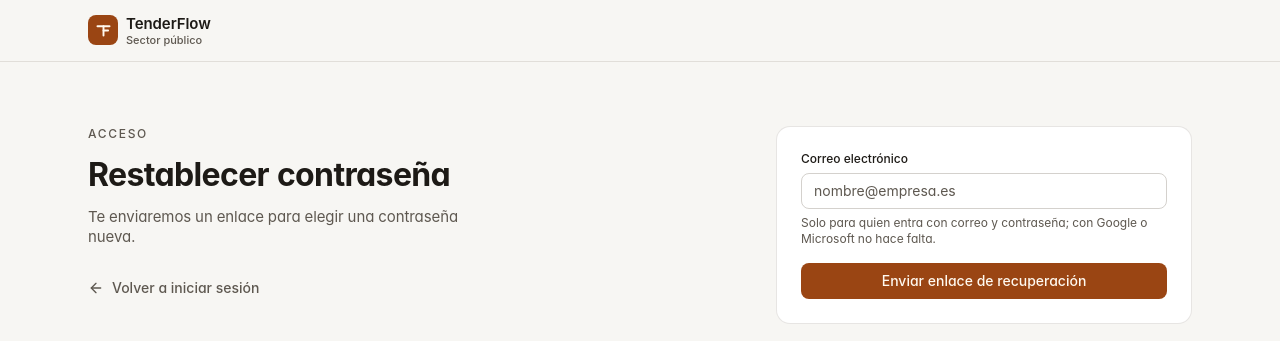
PasswordResetPage › muestra la misma confirmación genérica tras solicitar un enlace
In the field labelled "Correo electrónico": point(984, 191) [801,173,1167,209], type "persona@example.test"
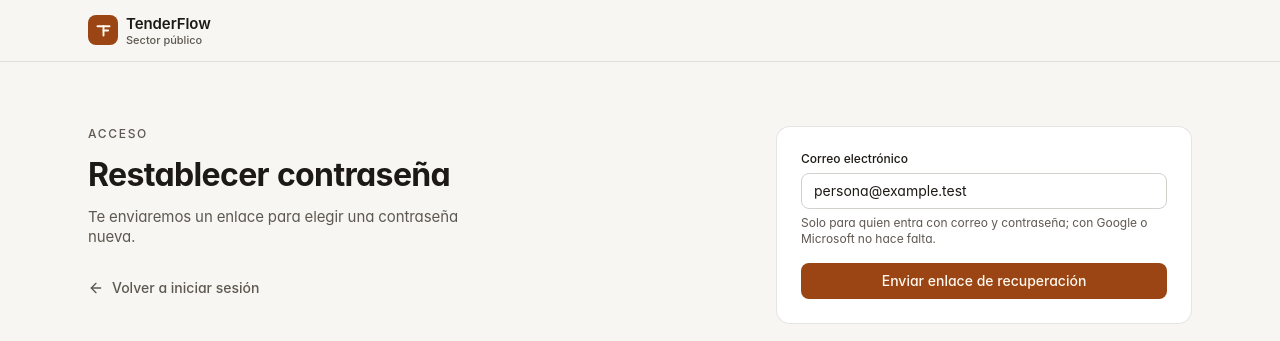
Click the button "Enviar enlace de recuperación": point(984, 281) [801,263,1167,299]
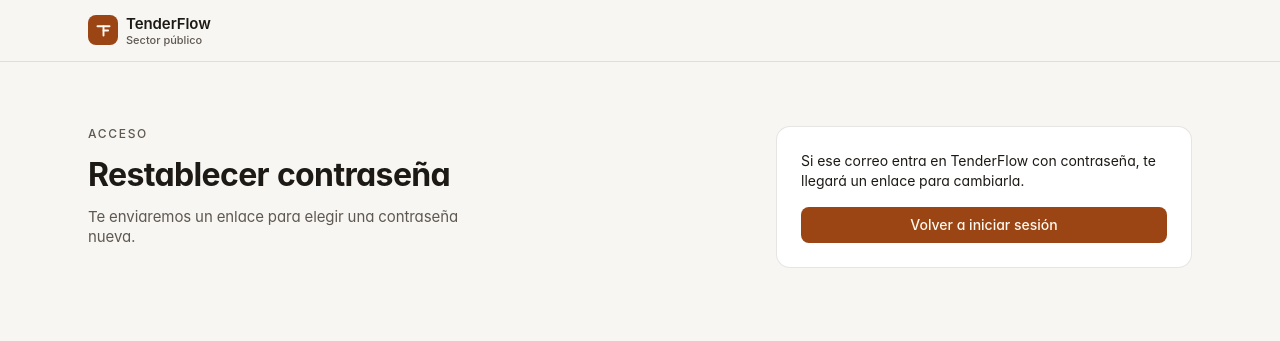
Result: the text "te llegará un enlace" is shown at [801,152,1156,189]
